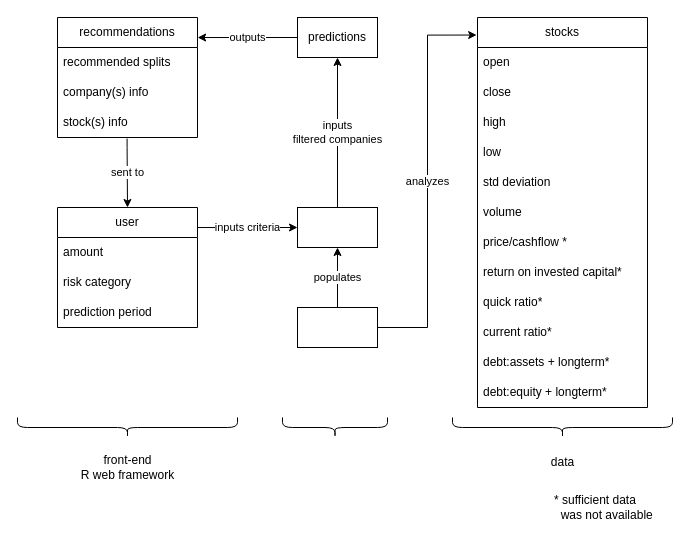
Image size: 690x545. Some labels were removed from this diagram. Each missing label, with the centre of its shape:
ai: (x=337, y=327)
back-end R: (x=335, y=427)
risk db: (x=337, y=227)
